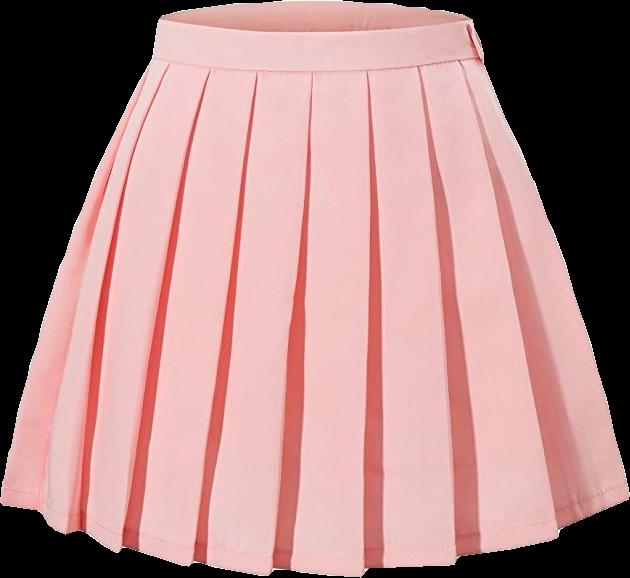Hemline: (0, 495, 629, 577)
Waistline: (147, 52, 480, 74), (155, 16, 469, 34)
